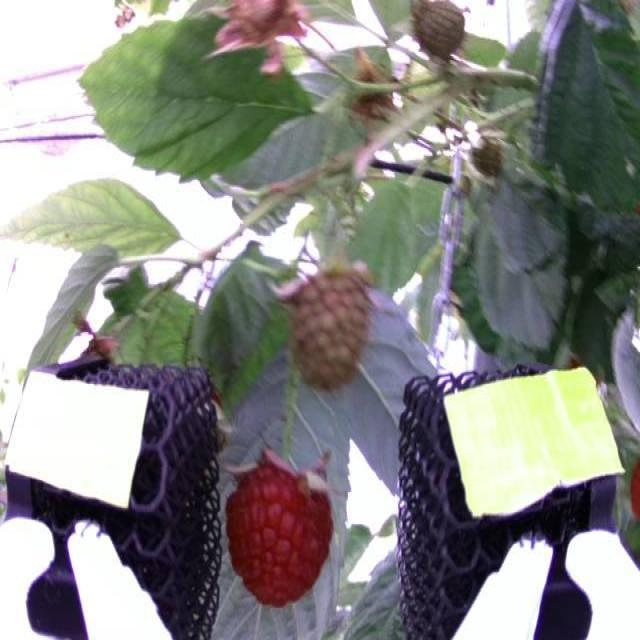Riped berries: (222, 448, 341, 602)
